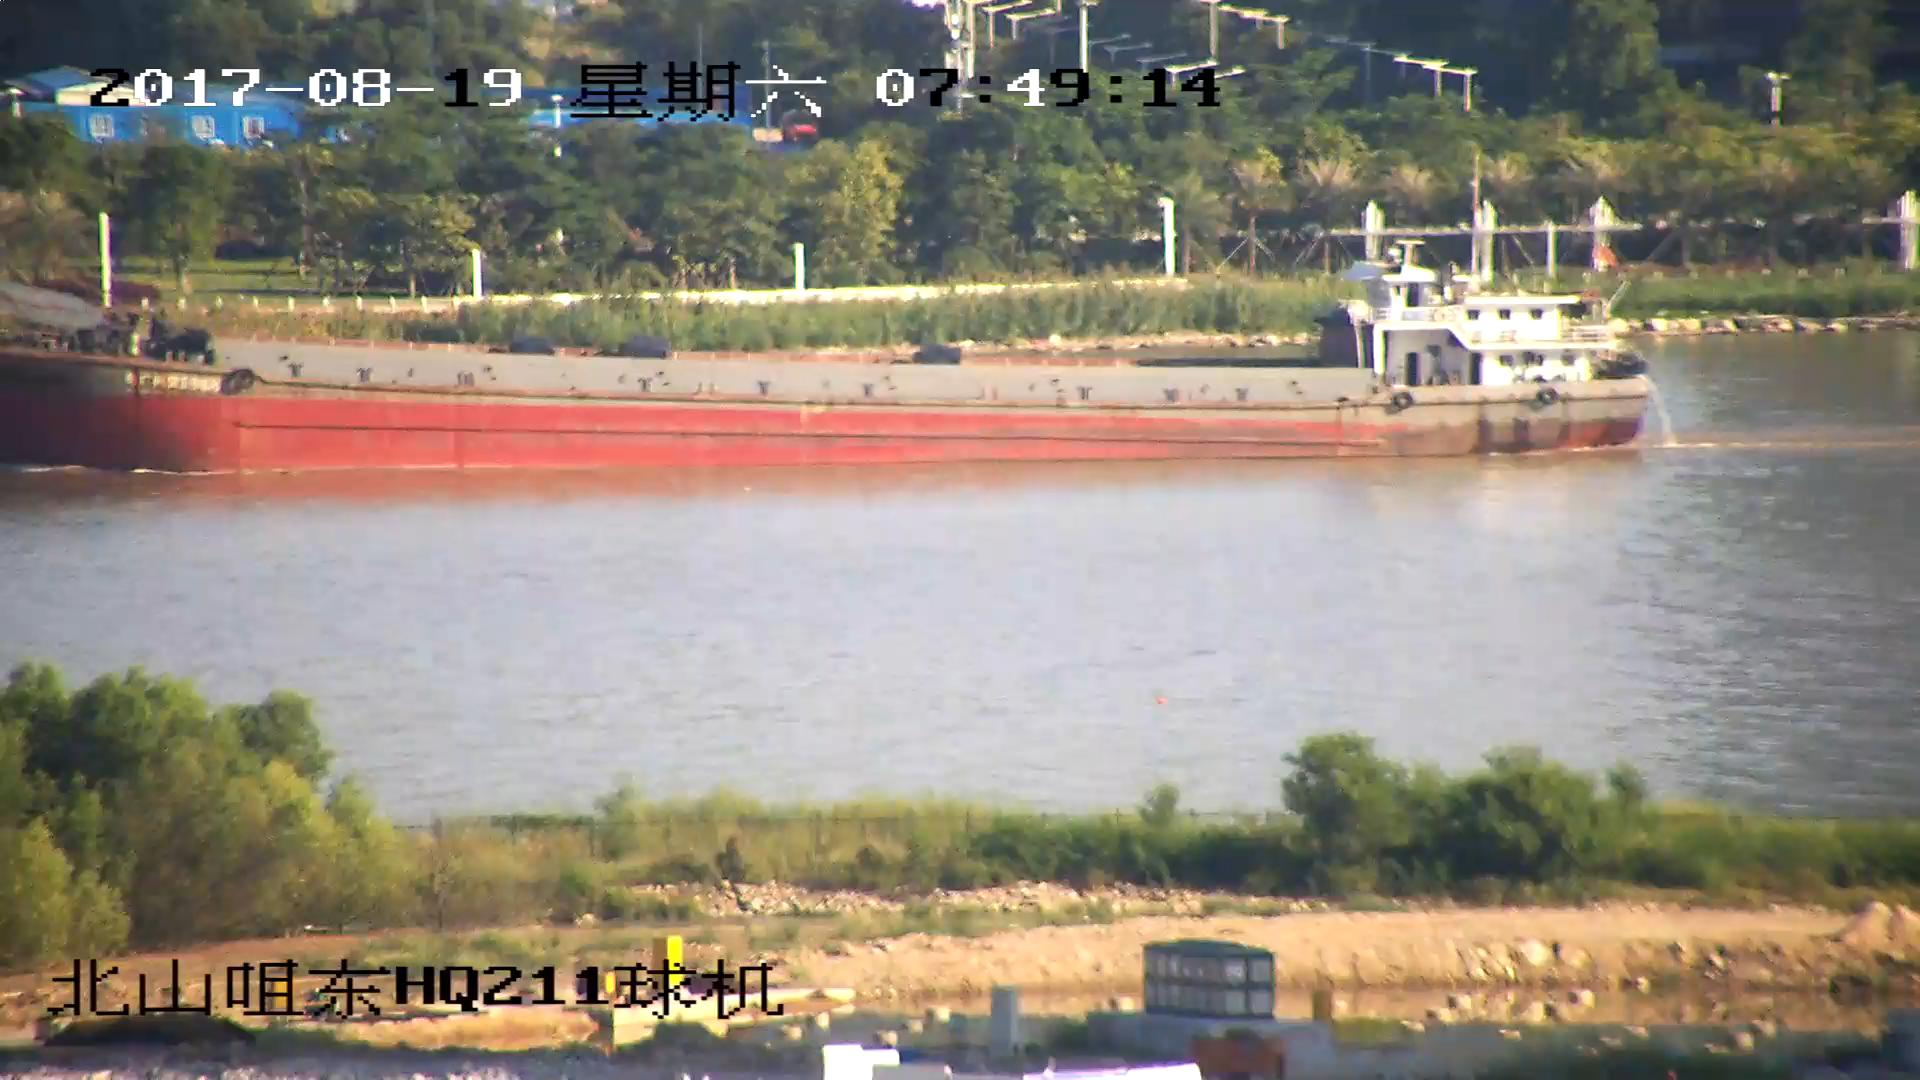bulk cargo carrier: (1, 240, 1666, 475)
